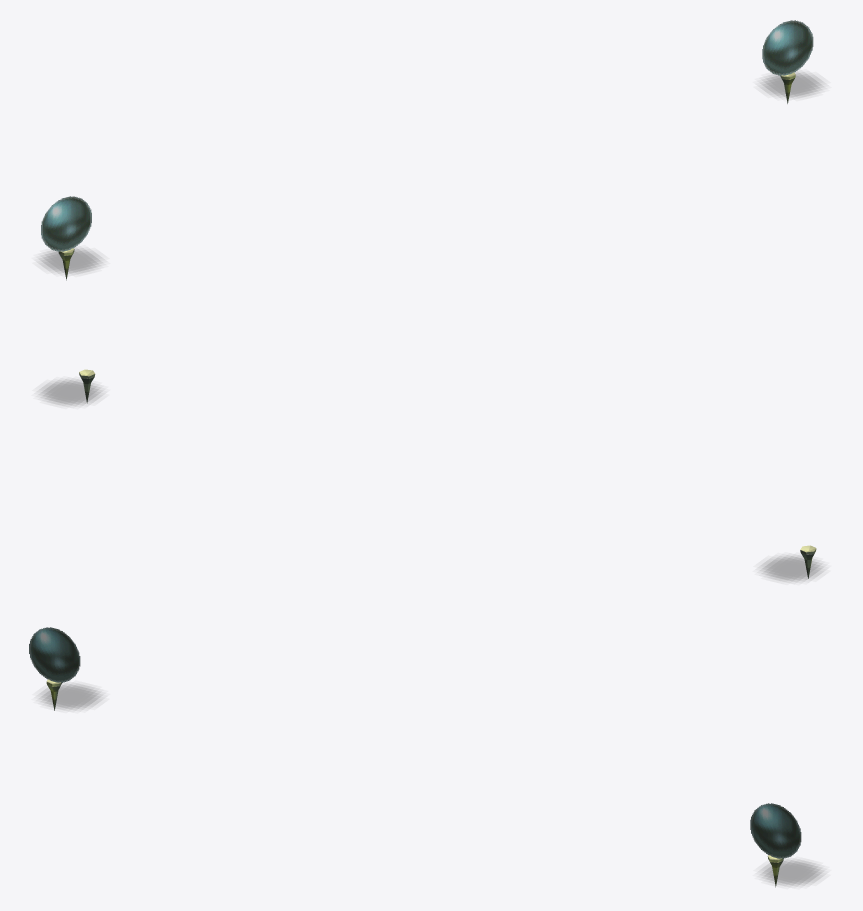
File: glf_teeOBJ__glf_teeOBJ.glb
3 renders of one model, top to bottom at view 1: azimuth 30°, elevation 25°; view 2: azimuth 150°, elevation 25°; view 3: azimuth 330°, elevation 25°, orthographic.
Visible parts, largest first — view 1: polygon1, polygon2, polygon3; view 2: polygon3, polygon0; view 3: polygon3, polygon2, polygon1.
Boxes of the visible parts, x1,y1,x2,y2 form: polygon1: (762,20,813,75); polygon2: (41,196,91,251); polygon3: (40,72,823,273); polygon3: (39,379,822,581); polygon0: (79,369,816,578); polygon3: (39,684,822,885); polygon2: (29,627,80,682); polygon1: (750,803,801,858).
Size of the model in its own units: 77.06 by 7.81 by 7.
Materials: 3 (3 with a texture image).
